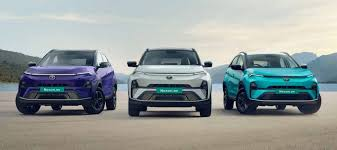Tata Nexon: (14, 47, 117, 116), (221, 50, 322, 114), (126, 47, 213, 117)
